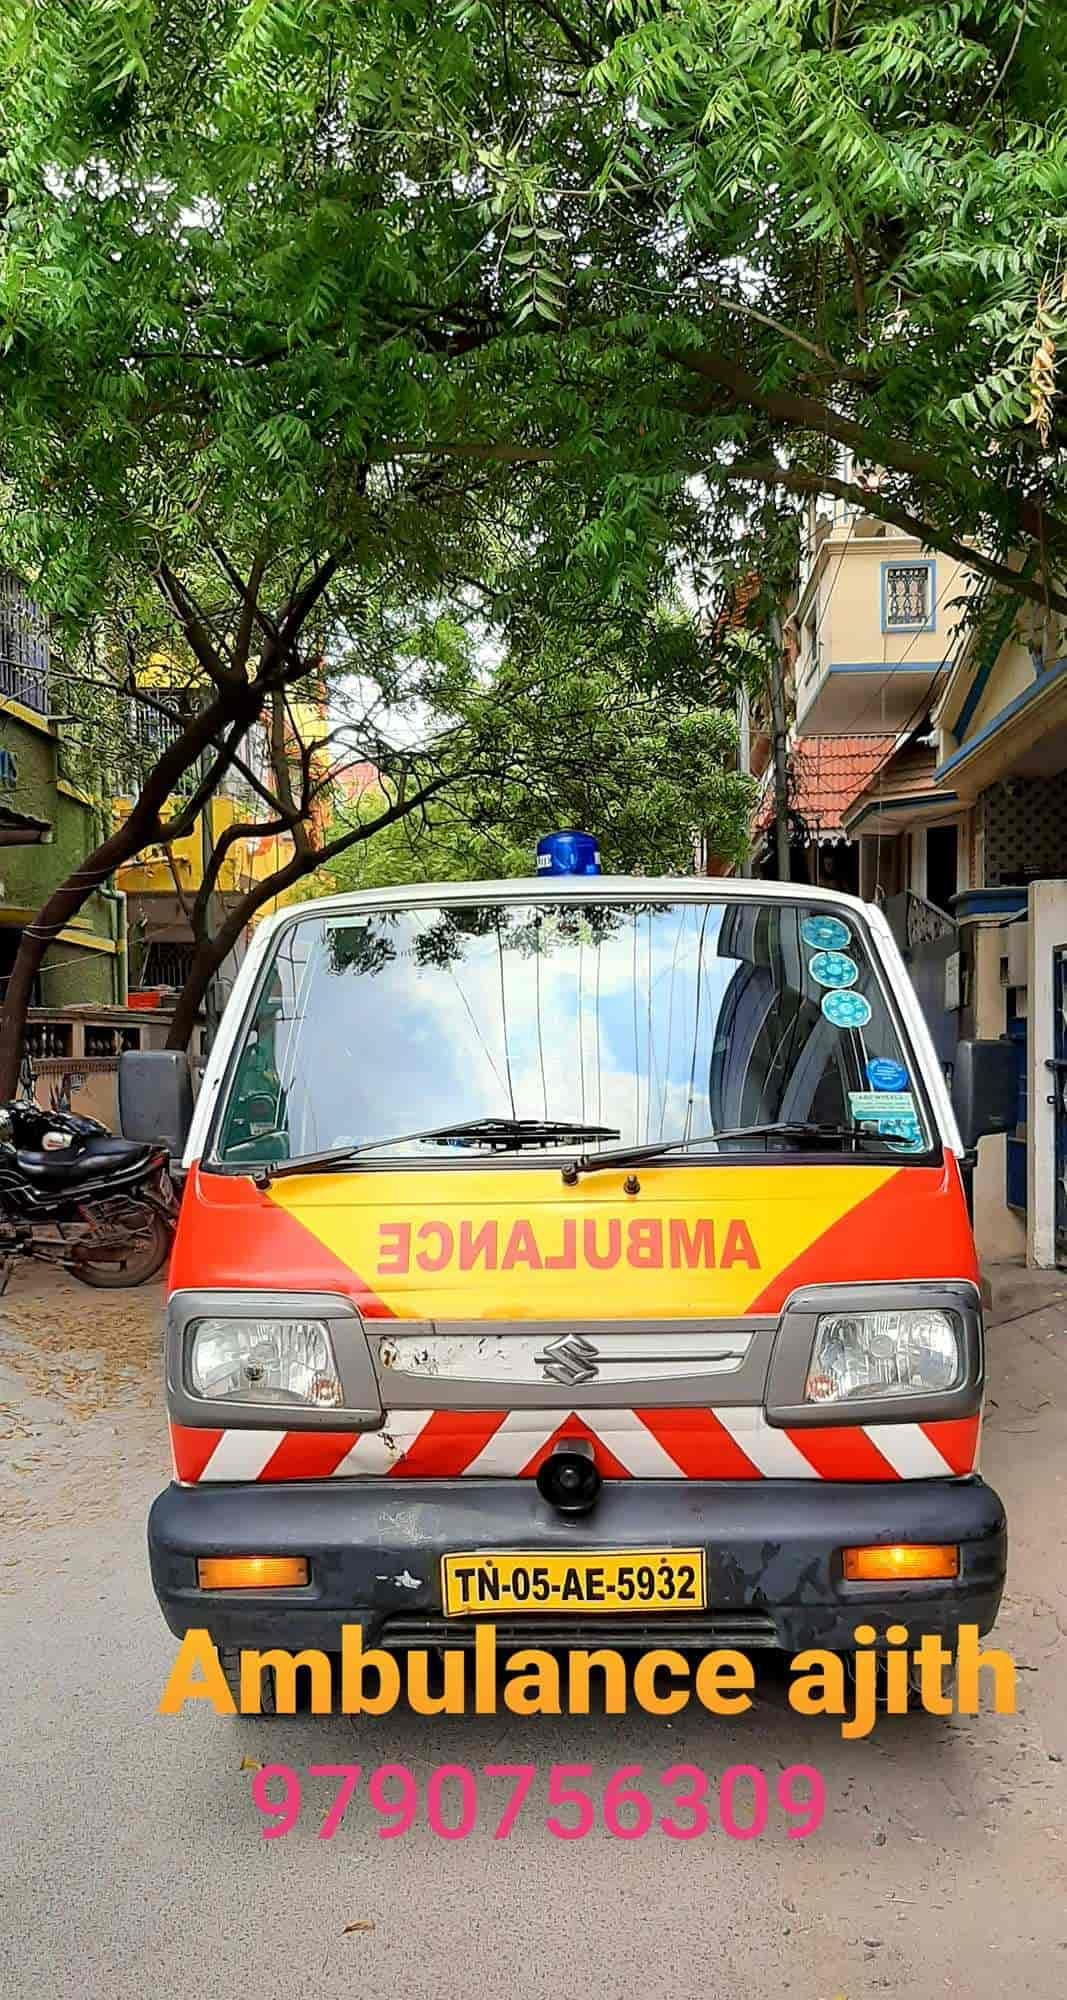ER: (157, 870, 1010, 1663)
